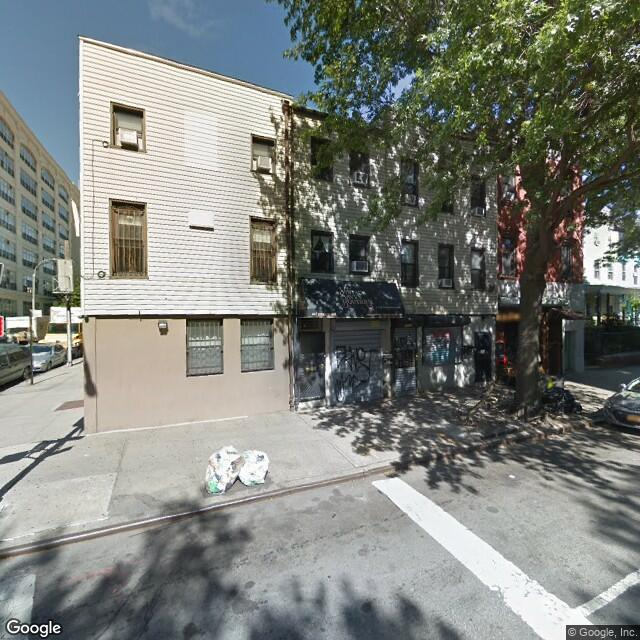litter: (210, 447, 270, 483)
